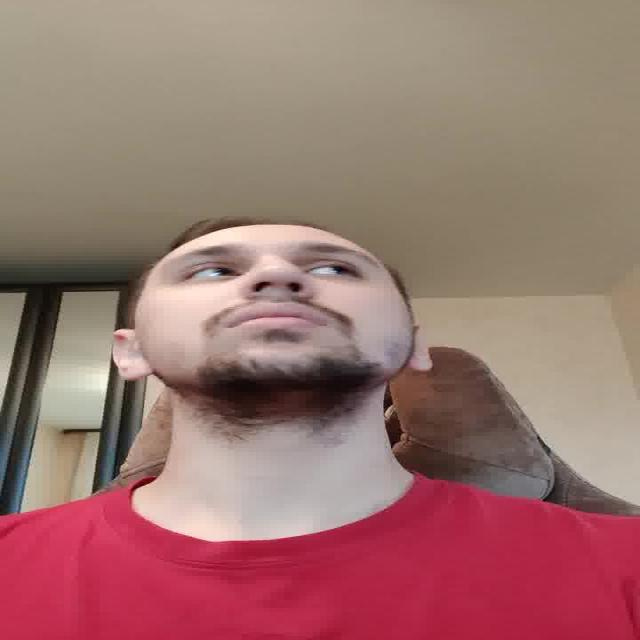earlobe: (109, 328, 153, 381), (407, 324, 435, 372)
